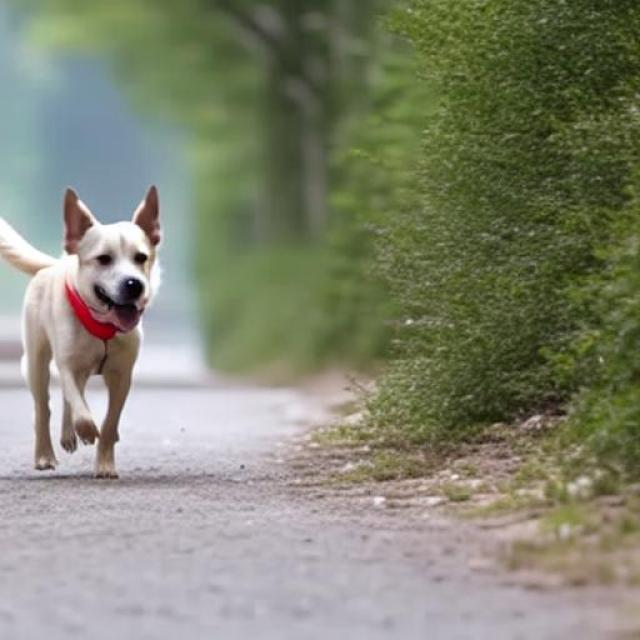Dog: (0, 183, 162, 478)
